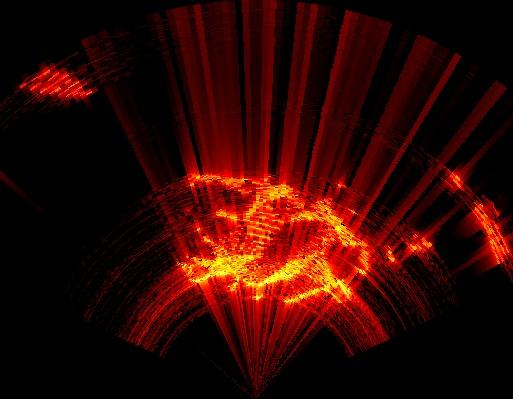shipwreck: (187, 172, 434, 302), (28, 64, 91, 101)
